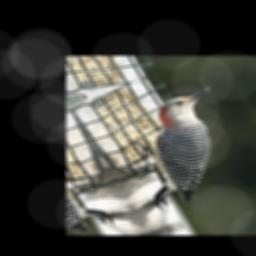Woodpecker: (103, 86, 256, 212)
